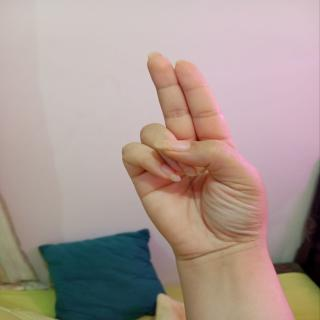TA: (113, 47, 283, 273)
